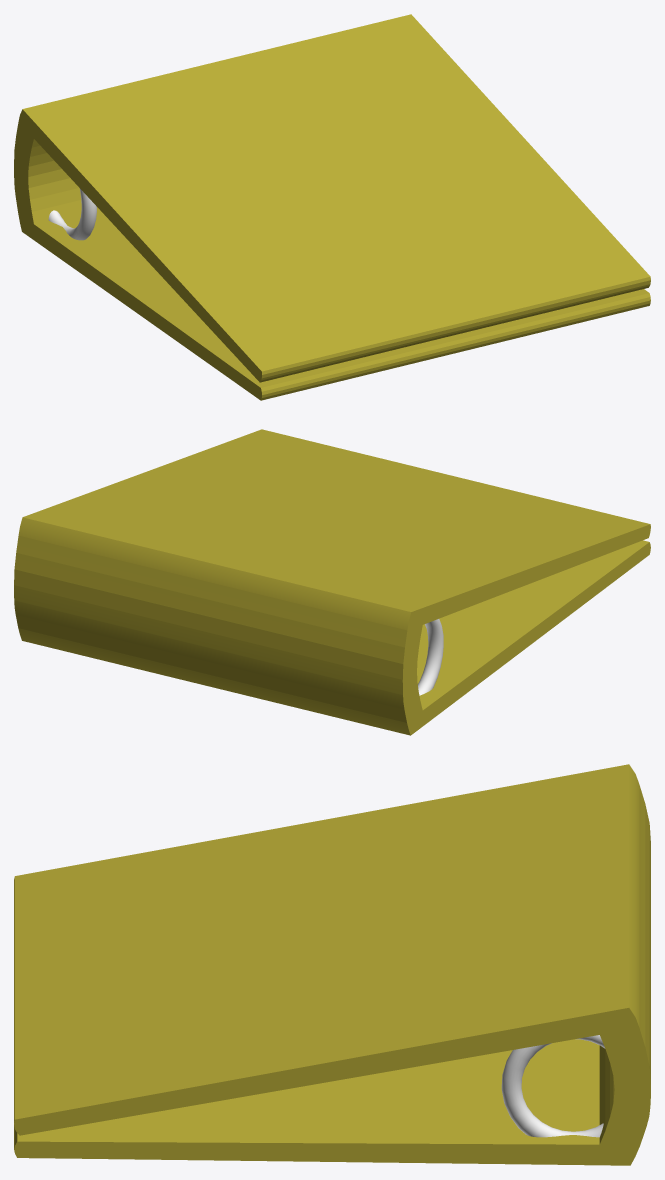
File: BinderFinal.fbx
3 renders of one model, top to bottom at view 1: azimuth 30°, elevation 25°; view 2: azimuth 150°, elevation 25°; view 3: azimuth 270°, elevation 25°, orthographic. The views are drawn at different scales.
Parts seen in each view (by area): view 1: polySurface4, polySurface5; view 2: polySurface4, polySurface5; view 3: polySurface4, polySurface5.
Boxes of the visible parts, x1,y1,x2,y2 form: polySurface4: (14, 14, 650, 400); polySurface5: (48, 188, 96, 240); polySurface4: (14, 429, 650, 735); polySurface5: (417, 619, 443, 695); polySurface4: (14, 764, 650, 1165); polySurface5: (501, 1035, 605, 1137).
Size of the model in its own units: 90.65 by 27.43 by 100.
